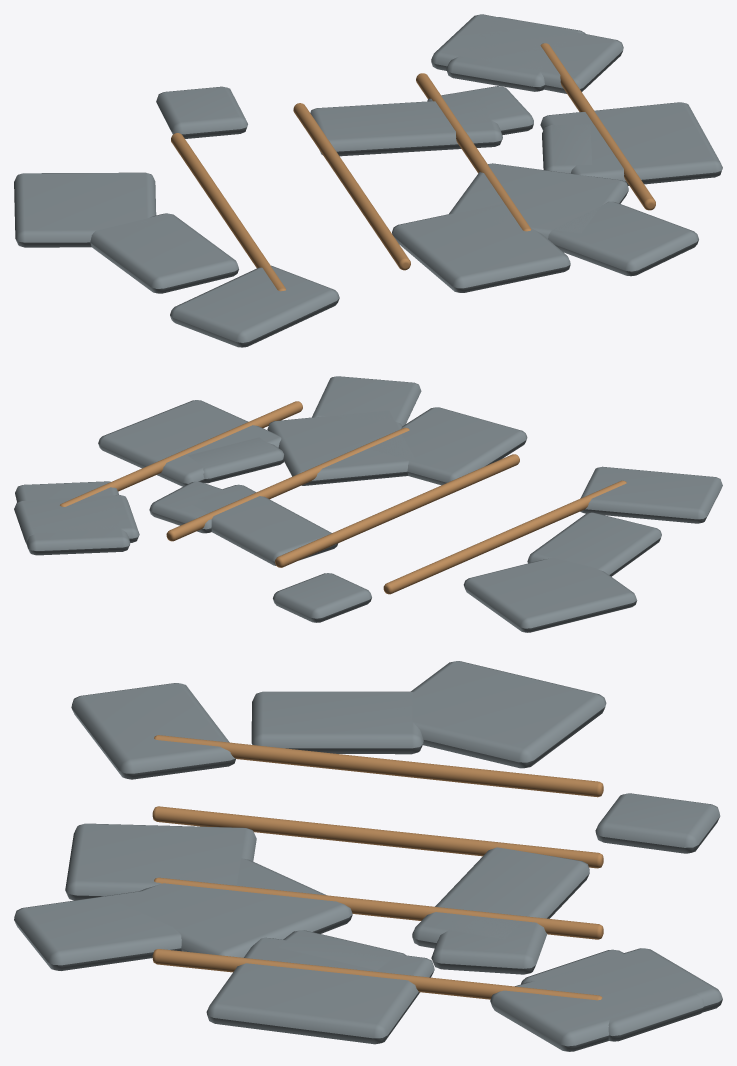
The model's file is 28_rubble_pile.glb.
The picture shows the model from 3 angles, top to bottom: view 1: azimuth 30°, elevation 25°; view 2: azimuth 150°, elevation 25°; view 3: azimuth 270°, elevation 25°; orthographic projection. The views are drawn at different scales.
Parts seen in each view (by area): view 1: Broken slab, Rebar; view 2: Broken slab, Rebar; view 3: Broken slab, Rebar.
Part boxes in pixels (x1,y1,x2,y2): Broken slab: [14, 14, 722, 347]; Rebar: [171, 43, 655, 291]; Broken slab: [14, 376, 722, 632]; Rebar: [60, 401, 626, 594]; Broken slab: [14, 661, 722, 1051]; Rebar: [152, 735, 603, 1000].
Bounding box in the file's own units: 1.6 × 0.044 × 1.26.
